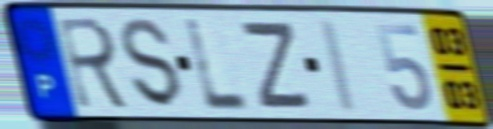5: (372, 21, 435, 113)
I: (316, 16, 361, 116)
L: (183, 16, 255, 113)
R: (55, 15, 135, 113)
S: (119, 16, 185, 112)
Z: (240, 19, 315, 112)
